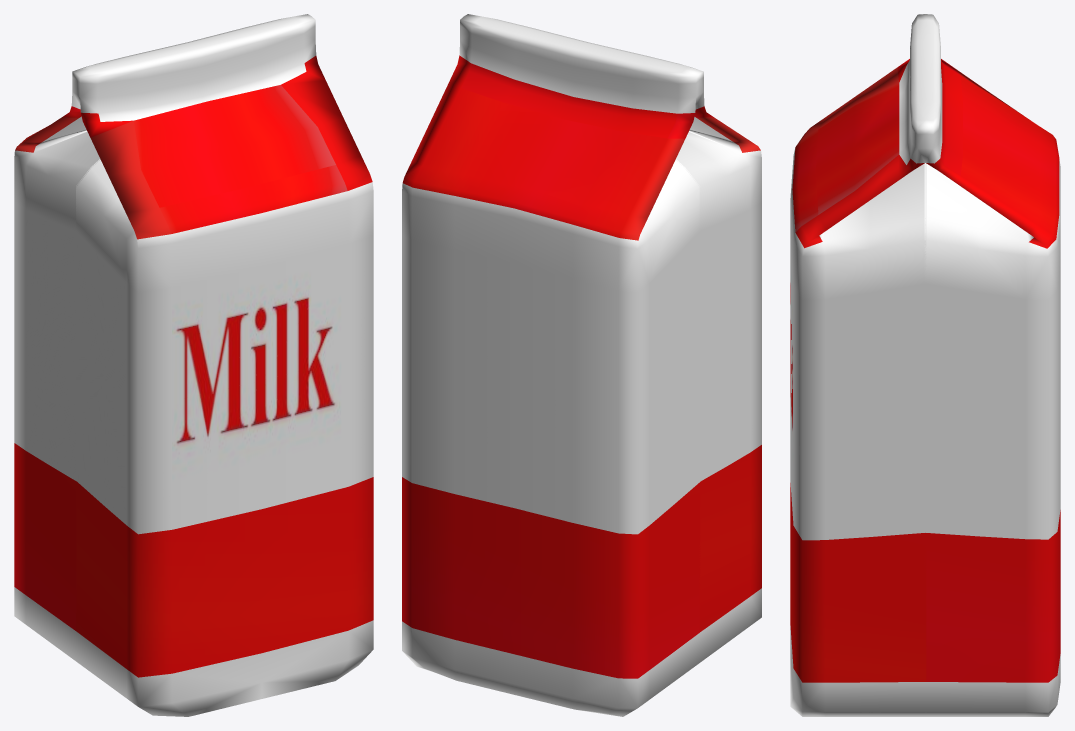
The model's file is milk.fbx.
3 views of the same model, side by side, from view 1: azimuth 30°, elevation 25°; view 2: azimuth 150°, elevation 25°; view 3: azimuth 270°, elevation 25° (orthographic).
Visible parts, largest first — view 1: Cube; view 2: Cube; view 3: Cube.
Boxes of the visible parts, x1,y1,x2,y2 form: Cube: (14,14,373,716); Cube: (402,14,761,716); Cube: (790,14,1060,716).
Bounding box in the file's own units: 0.4416 × 1.08 × 0.4416.
